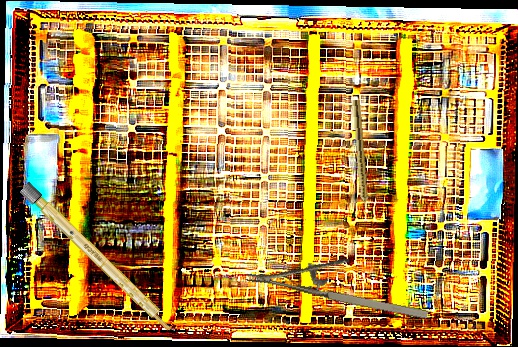Handpiece: (350, 99, 370, 215)
Needle Holder: (245, 236, 436, 325)
Scalpel Handle: (19, 181, 179, 337)
